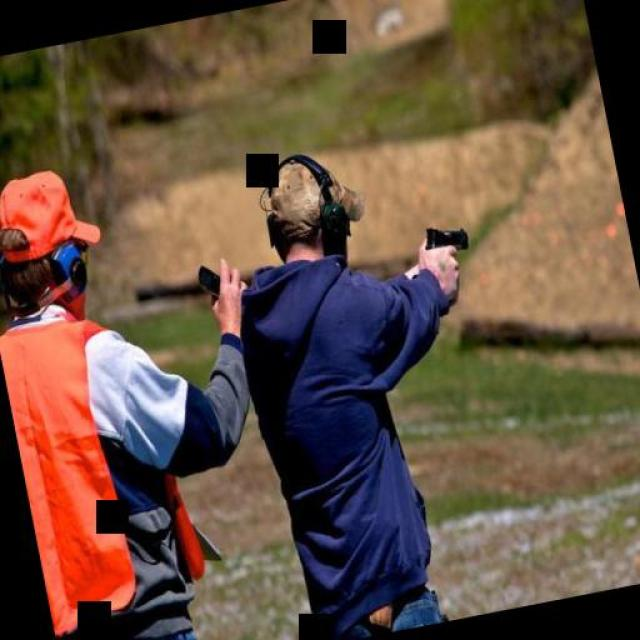gun: (416, 212, 479, 306)
